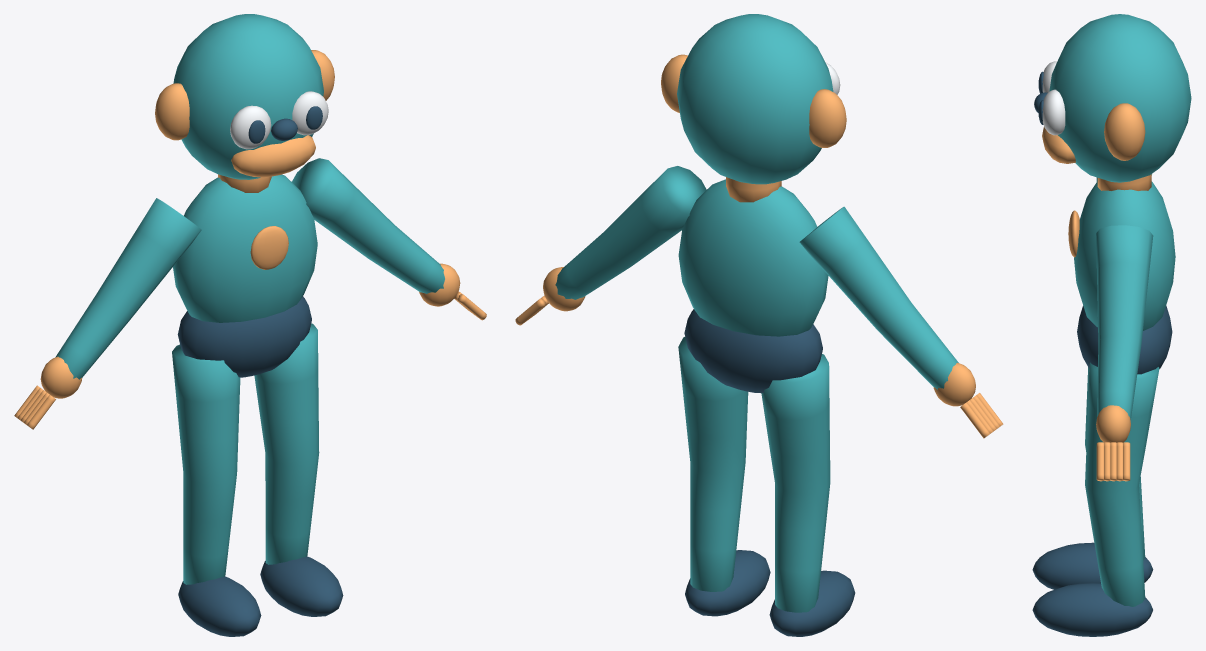
File: demo-humanoid-input.glb
3 views of the same model, side by side, from view 1: azimuth 30°, elevation 25°; view 2: azimuth 150°, elevation 25°; view 3: azimuth 270°, elevation 25° (orthographic). The views are drawn at different scales.
Parts seen in each view (by area): view 1: torso, head-mesh, leg-left, leg-right, arm-left, arm-right, hips, boot-left, boot-right, jaw-mesh, ear-left, chest-badge (+4 smaller); view 2: head-mesh, torso, leg-left, leg-right, arm-left, arm-right, hips, boot-right, boot-left, ear-left, hand-left, ear-right (+2 smaller); view 3: head-mesh, leg-right, arm-right, torso, boot-right, boot-left, hips, ear-right, hand-right, eye-white-right, jaw-mesh, neck-mesh (+8 smaller).
Part boxes in pixels (bbox=[...]): torso: bbox=[173, 174, 317, 322]; head-mesh: bbox=[173, 14, 323, 179]; leg-left: bbox=[172, 344, 240, 584]; leg-right: bbox=[254, 323, 319, 564]; arm-left: bbox=[55, 198, 201, 379]; arm-right: bbox=[292, 158, 444, 293]; hips: bbox=[177, 296, 311, 377]; boot-left: bbox=[178, 576, 261, 636]; boot-right: bbox=[260, 556, 343, 616]; jaw-mesh: bbox=[231, 135, 315, 177]; ear-left: bbox=[155, 83, 189, 140]; chest-badge: bbox=[250, 226, 288, 269]; head-mesh: bbox=[677, 14, 833, 184]; torso: bbox=[678, 179, 828, 336]; leg-left: bbox=[761, 354, 830, 612]; leg-right: bbox=[678, 337, 748, 591]; arm-left: bbox=[799, 206, 958, 389]; arm-right: bbox=[555, 166, 706, 299]; hips: bbox=[684, 309, 822, 392]; boot-right: bbox=[685, 550, 770, 616]; boot-left: bbox=[769, 570, 855, 636]; ear-left: bbox=[809, 89, 846, 147]; hand-left: bbox=[933, 362, 975, 406]; ear-right: bbox=[661, 54, 687, 112]; head-mesh: bbox=[1049, 14, 1191, 182]; leg-right: bbox=[1085, 362, 1159, 606]; arm-right: bbox=[1096, 225, 1153, 420]; torso: bbox=[1074, 181, 1175, 330]; boot-right: bbox=[1032, 583, 1152, 636]; boot-left: bbox=[1032, 542, 1153, 589]; hips: bbox=[1077, 306, 1172, 374]; ear-right: bbox=[1104, 103, 1145, 160]; hand-right: bbox=[1096, 405, 1130, 442]; eye-white-right: bbox=[1042, 89, 1065, 135]; jaw-mesh: bbox=[1042, 126, 1075, 163]; neck-mesh: bbox=[1097, 174, 1151, 190].
Bounding box in the file's own units: 1.68 × 2.05 × 0.5.
